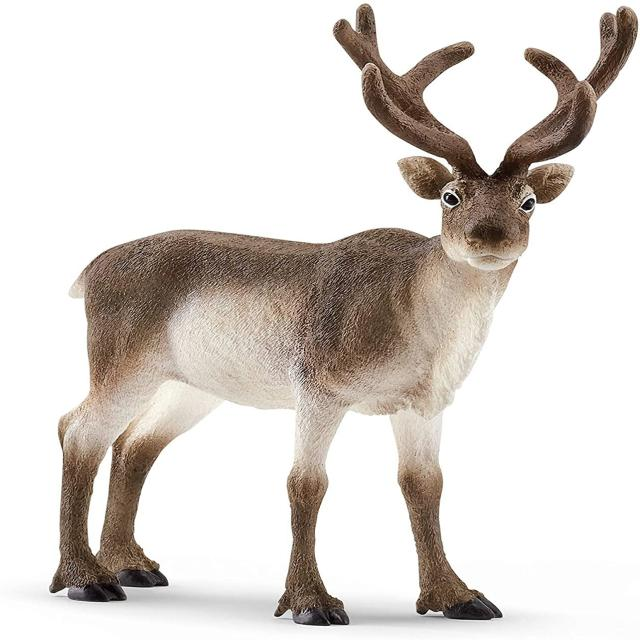reindeer: (51, 6, 637, 625)
